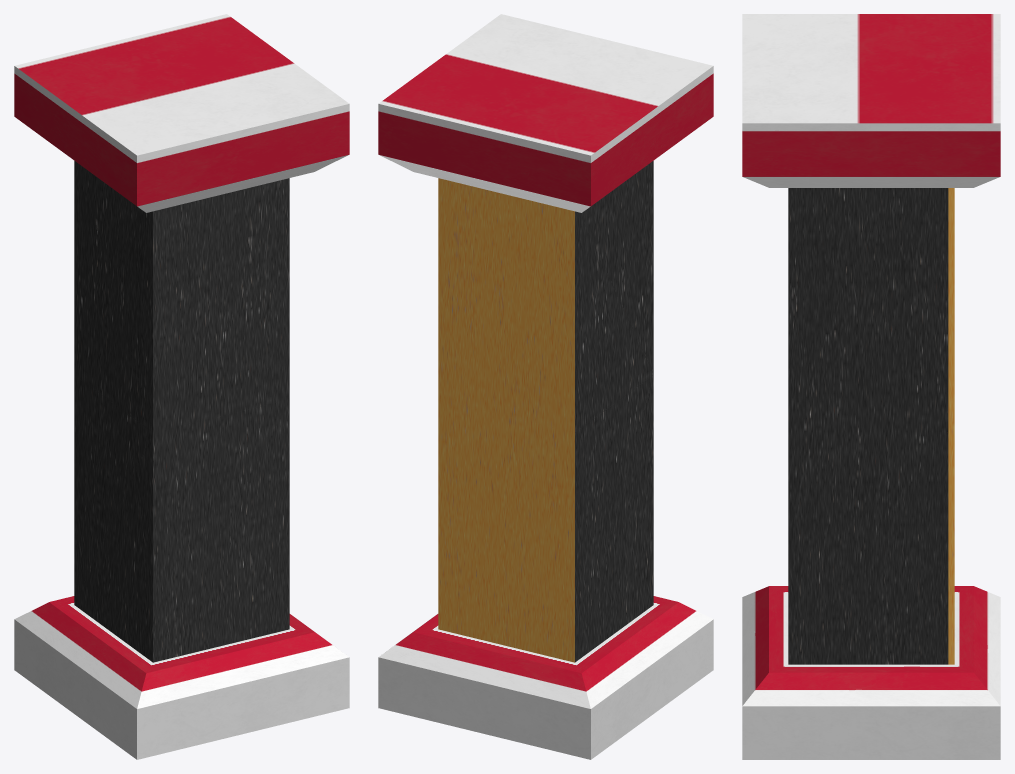
File: Pillar.fbx
3 views of the same model, side by side, from view 1: azimuth 30°, elevation 25°; view 2: azimuth 150°, elevation 25°; view 3: azimuth 270°, elevation 25° (orthographic). The views are drawn at different scales.
Visible parts, largest first — view 1: Pillar; view 2: Pillar; view 3: Pillar.
Boxes of the visible parts, <box> form: Pillar: <box>14,14,349,759</box>; Pillar: <box>378,14,713,759</box>; Pillar: <box>742,14,1000,759</box>.
Bounding box in the file's own units: 164 × 444 × 164.
